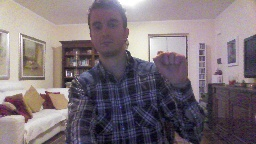Pugno: (150, 48, 187, 85)
